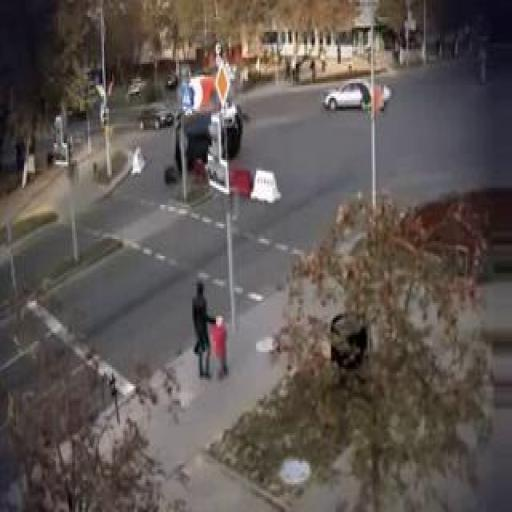Car: (177, 115, 243, 166), (324, 83, 389, 110), (143, 105, 171, 128)
